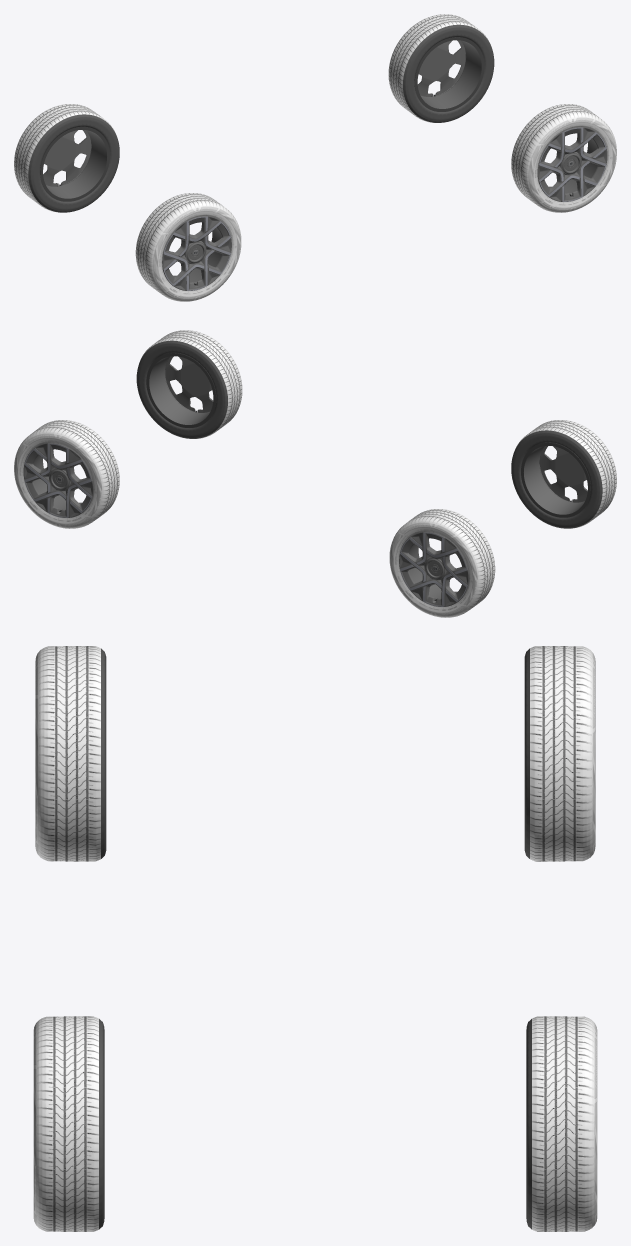
File: wheels-2.glb
3 renders of one model, top to bottom at view 1: azimuth 30°, elevation 25°; view 2: azimuth 150°, elevation 25°; view 3: azimuth 270°, elevation 25°, orthographic. The views are drawn at different scales.
Visible parts, largest first — view 1: wheel_2_00, wheel_2_14, wheel_2_21, wheel_2_07, wheel_2_15, wheel_2_01, wheel_2_22, wheel_2_08, wheel_2_05, wheel_2_19, wheel_2_25, wheel_2_11; view 2: wheel_2_07, wheel_2_21, wheel_2_14, wheel_2_00, wheel_2_22, wheel_2_08, wheel_2_15, wheel_2_01, wheel_2_12, wheel_2_26, wheel_2_18, wheel_2_04; view 3: wheel_2_00, wheel_2_07, wheel_2_14, wheel_2_21.
Boxes of the visible parts, bbox=[...] form: wheel_2_00: bbox=[135, 193, 241, 301]; wheel_2_14: bbox=[511, 104, 616, 212]; wheel_2_21: bbox=[388, 14, 494, 122]; wheel_2_07: bbox=[14, 104, 119, 212]; wheel_2_15: bbox=[537, 127, 607, 201]; wheel_2_01: bbox=[162, 216, 231, 290]; wheel_2_22: bbox=[417, 40, 481, 108]; wheel_2_08: bbox=[43, 130, 106, 198]; wheel_2_05: bbox=[163, 216, 230, 290]; wheel_2_19: bbox=[539, 127, 606, 201]; wheel_2_25: bbox=[414, 37, 484, 111]; wheel_2_11: bbox=[40, 126, 109, 201]; wheel_2_07: bbox=[389, 509, 495, 617]; wheel_2_21: bbox=[14, 420, 119, 528]; wheel_2_14: bbox=[136, 330, 242, 438]; wheel_2_00: bbox=[511, 420, 616, 528]; wheel_2_22: bbox=[23, 443, 93, 517]; wheel_2_08: bbox=[399, 532, 468, 606]; wheel_2_15: bbox=[149, 356, 213, 424]; wheel_2_01: bbox=[524, 446, 587, 514]; wheel_2_12: bbox=[400, 532, 467, 606]; wheel_2_26: bbox=[24, 443, 91, 517]; wheel_2_18: bbox=[146, 353, 216, 427]; wheel_2_04: bbox=[521, 442, 590, 517]; wheel_2_00: bbox=[35, 646, 106, 861]; wheel_2_07: bbox=[524, 646, 595, 861]; wheel_2_14: bbox=[33, 1016, 104, 1231]; wheel_2_21: bbox=[526, 1016, 597, 1231].
Size of the model in its own units: 3.84 by 0.7824 by 2.
7 materials, 1 textured.
